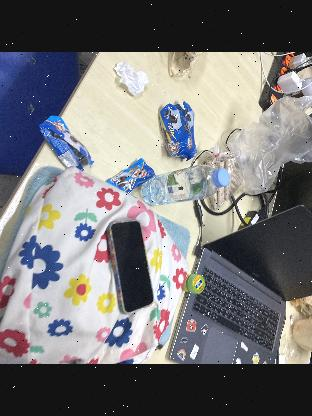Others: (226, 103, 312, 199), (40, 113, 92, 174), (158, 100, 198, 162), (208, 150, 244, 212), (104, 158, 156, 198), (108, 60, 150, 98), (164, 52, 208, 88), (288, 314, 312, 363), (288, 293, 312, 318)
Plastic Bottle: (136, 164, 232, 208)
